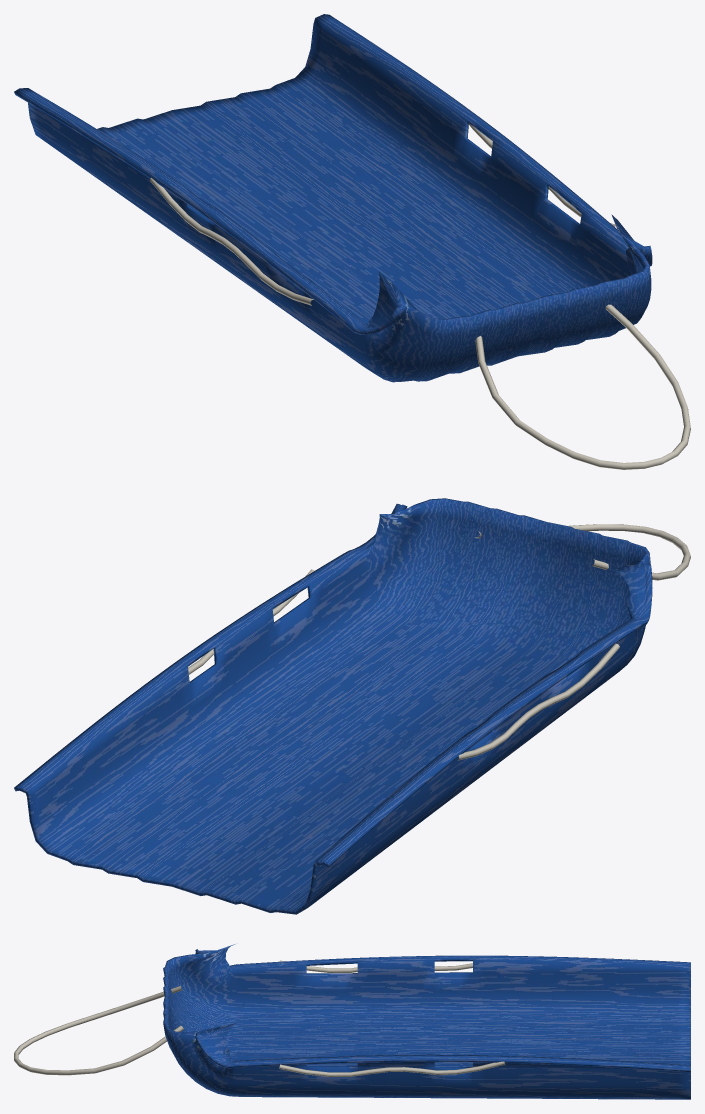
File: sled.glb
The picture shows the model from 3 angles, top to bottom: view 1: azimuth 30°, elevation 25°; view 2: azimuth 150°, elevation 25°; view 3: azimuth 270°, elevation 25°; orthographic projection. The views are drawn at different scales.
Visible parts, largest first — view 1: Sled, SledRope_Front, SledRope_Side_R; view 2: Sled, SledRope_Side_R, SledRope_Front; view 3: Sled, SledRope_Front, SledRope_Side_L, SledRope_Side_R.
Boxes of the visible parts, x1,y1,x2,y2 form: Sled: (14,14,652,382); SledRope_Front: (475,304,690,469); SledRope_Side_R: (149,177,313,305); Sled: (14,498,652,914); SledRope_Side_R: (458,643,619,760); SledRope_Front: (475,524,690,580); Sled: (163,944,690,1099); SledRope_Front: (14,985,183,1075); SledRope_Side_L: (279,1061,505,1076); SledRope_Side_R: (280,960,472,972).
Bounding box in the file's own units: 0.5441 × 0.1818 × 1.44.
Materials: 2 (1 with a texture image).
